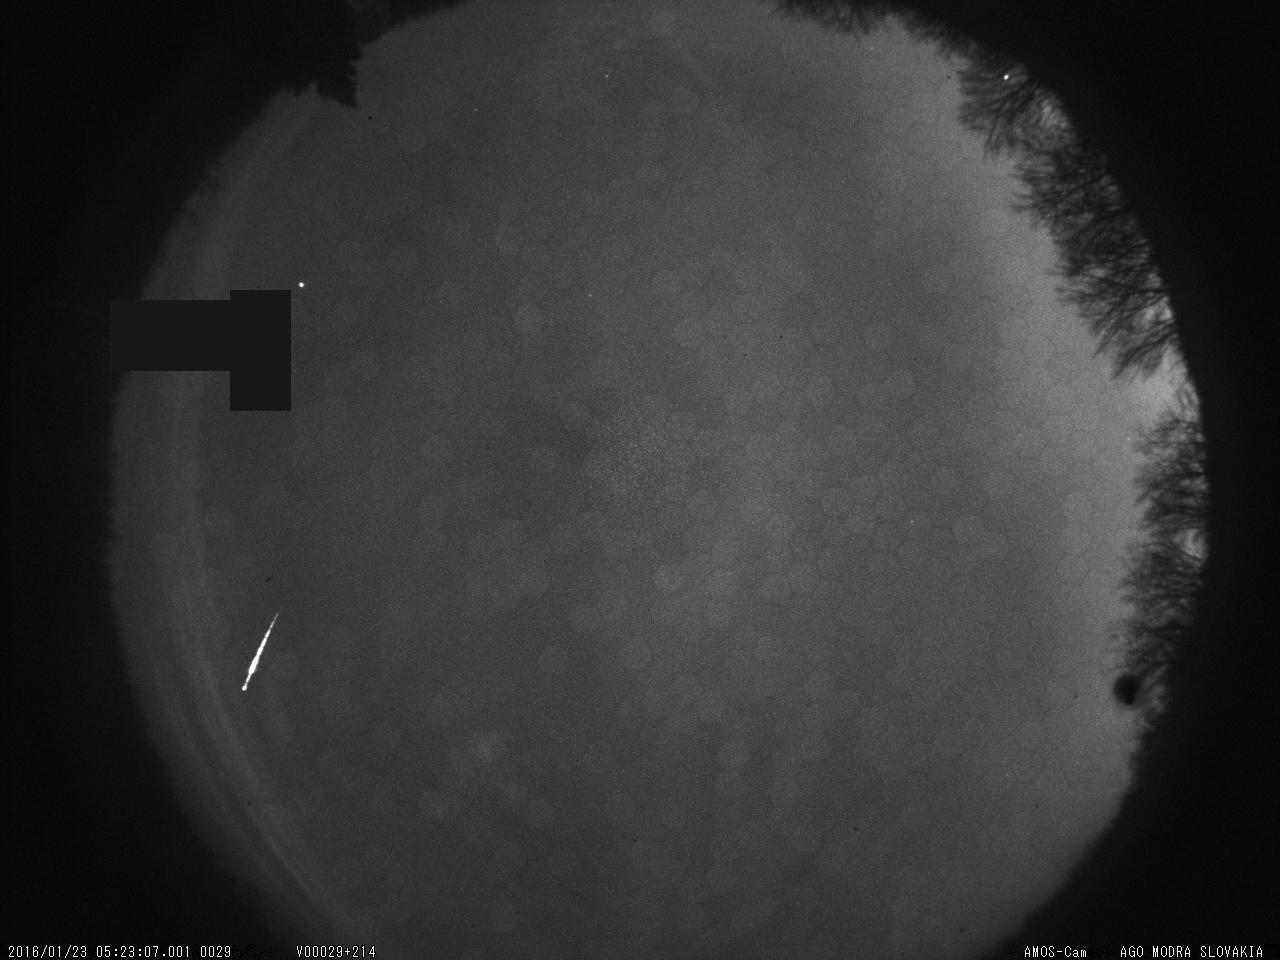Meteor: (234, 602, 286, 700)
